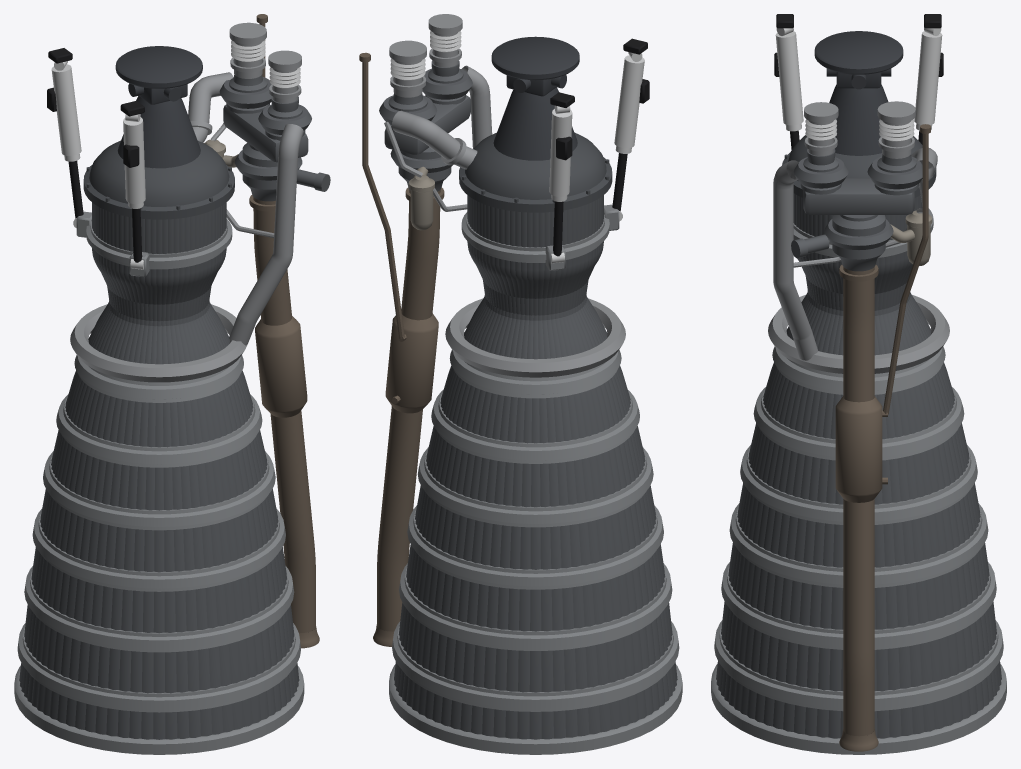
3 views of the same model, side by side, from view 1: azimuth 30°, elevation 25°; view 2: azimuth 150°, elevation 25°; view 3: azimuth 270°, elevation 25° (orthographic). The views are drawn at different scales.
Parts seen in each view (by area): view 1: A87_TubeWallNozzle, A87_HatBands, A87_PropellantDucts, A87_TurbineExhaust, A87_GimbalMount, A87_InjectorDome, A87_Turbopump, A87_Actuators, A87_DuctBellows; view 2: A87_TubeWallNozzle, A87_HatBands, A87_TurbineExhaust, A87_PropellantDucts, A87_GimbalMount, A87_InjectorDome, A87_Actuators, A87_Turbopump, A87_GasGenerator, A87_DuctBellows; view 3: A87_TubeWallNozzle, A87_HatBands, A87_TurbineExhaust, A87_PropellantDucts, A87_Turbopump, A87_GimbalMount, A87_Actuators, A87_InjectorDome, A87_GasGenerator, A87_DuctBellows.
Boxes of the visible parts, left/top/right/bottom form: A87_TubeWallNozzle: left=19, top=202, right=299, bottom=739; A87_HatBands: left=14, top=211, right=304, bottom=754; A87_PropellantDucts: left=70, top=22, right=303, bottom=382; A87_TurbineExhaust: left=249, top=14, right=319, bottom=648; A87_GimbalMount: left=115, top=46, right=202, bottom=168; A87_InjectorDome: left=83, top=140, right=234, bottom=219; A87_Turbopump: left=219, top=74, right=330, bottom=201; A87_Actuators: left=47, top=48, right=145, bottom=269; A87_DuctBellows: left=231, top=40, right=300, bottom=88; A87_TubeWallNozzle: left=394, top=195, right=677, bottom=739; A87_HatBands: left=389, top=204, right=682, bottom=754; A87_TurbineExhaust: left=359, top=52, right=444, bottom=646; A87_PropellantDucts: left=384, top=14, right=625, bottom=377; A87_GimbalMount: left=491, top=36, right=579, bottom=160; A87_InjectorDome: left=459, top=132, right=612, bottom=212; A87_Actuators: left=549, top=38, right=649, bottom=263; A87_Turbopump: left=379, top=60, right=472, bottom=191; A87_GasGenerator: left=408, top=166, right=434, bottom=230; A87_DuctBellows: left=390, top=31, right=461, bottom=80; A87_TubeWallNozzle: left=716, top=193, right=1001, bottom=738; A87_HatBands: left=711, top=208, right=1006, bottom=754; A87_TurbineExhaust: left=835, top=124, right=930, bottom=751; A87_PropellantDucts: left=768, top=101, right=949, bottom=373; A87_Turbopump: left=791, top=149, right=922, bottom=271; A87_GimbalMount: left=814, top=31, right=903, bottom=155; A87_Actuators: left=774, top=14, right=943, bottom=149; A87_InjectorDome: left=782, top=135, right=936, bottom=197; A87_GasGenerator: left=890, top=210, right=932, bottom=265; A87_DuctBellows: left=805, top=119, right=914, bottom=141.
Bounding box in the file's own units: 1.5 × 3.2 × 1.33.
